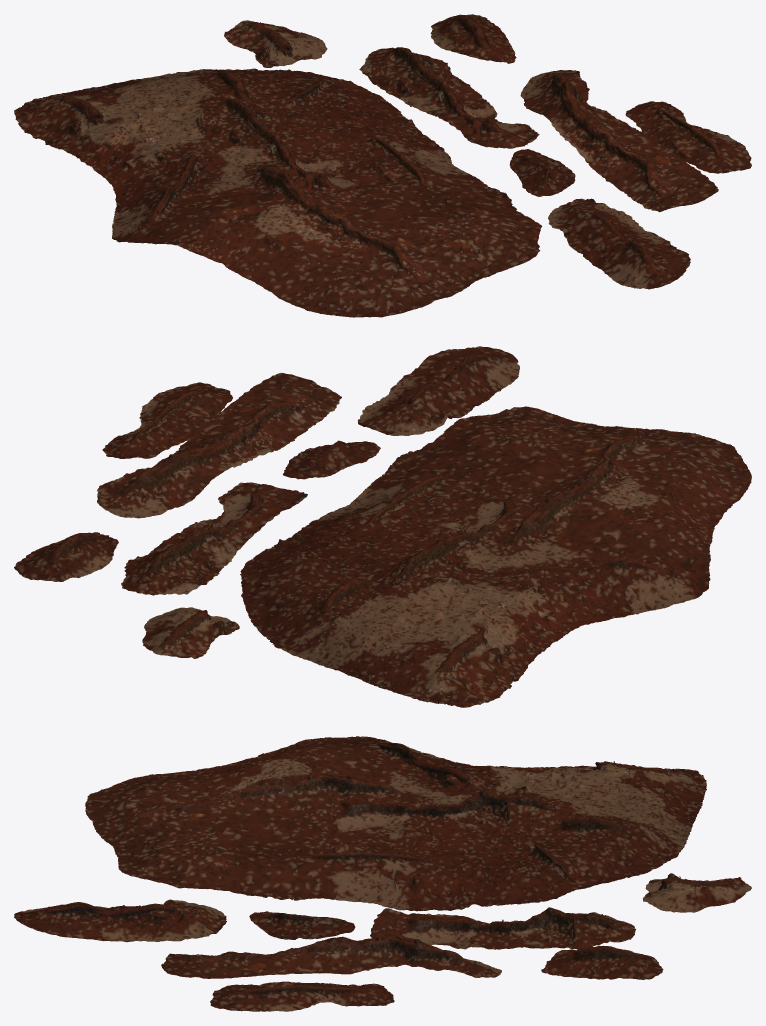
The model's file is root_cluster_02.gltf.
3 views of the same model, one above another, from view 1: azimuth 30°, elevation 25°; view 2: azimuth 150°, elevation 25°; view 3: azimuth 270°, elevation 25° (orthographic). The views are drawn at different scales.
Visible parts, largest first — view 1: root_cluster_02_a, root_cluster_02_f, root_cluster_02_d, root_cluster_02_b, root_cluster_02_g, root_cluster_02_e, root_cluster_02_h, root_cluster_02_c; view 2: root_cluster_02_a, root_cluster_02_f, root_cluster_02_d, root_cluster_02_b, root_cluster_02_g, root_cluster_02_h, root_cluster_02_e, root_cluster_02_c; view 3: root_cluster_02_a, root_cluster_02_f, root_cluster_02_d, root_cluster_02_b, root_cluster_02_g, root_cluster_02_h, root_cluster_02_e, root_cluster_02_c.
Boxes of the visible parts, x1,y1,x2,y2 form: root_cluster_02_a: (14, 68, 541, 317); root_cluster_02_f: (520, 70, 718, 212); root_cluster_02_d: (359, 47, 539, 148); root_cluster_02_b: (548, 198, 690, 289); root_cluster_02_g: (625, 101, 751, 173); root_cluster_02_e: (224, 20, 327, 67); root_cluster_02_h: (430, 14, 516, 63); root_cluster_02_c: (509, 149, 575, 196); root_cluster_02_a: (240, 406, 751, 707); root_cluster_02_f: (97, 372, 341, 518); root_cluster_02_d: (121, 482, 307, 595); root_cluster_02_b: (357, 346, 519, 435); root_cluster_02_g: (102, 382, 232, 458); root_cluster_02_h: (14, 532, 118, 581); root_cluster_02_e: (142, 607, 239, 658); root_cluster_02_c: (283, 440, 380, 479); root_cluster_02_a: (85, 736, 706, 911); root_cluster_02_f: (161, 934, 501, 978); root_cluster_02_d: (370, 907, 635, 949); root_cluster_02_b: (14, 899, 226, 942); root_cluster_02_g: (210, 981, 394, 1011); root_cluster_02_h: (541, 945, 663, 979); root_cluster_02_e: (643, 873, 751, 912); root_cluster_02_c: (249, 911, 355, 939).
Bounding box in the file's own units: 2.38 × 0.1984 × 2.71.
Materials: 1 (1 with a texture image).
